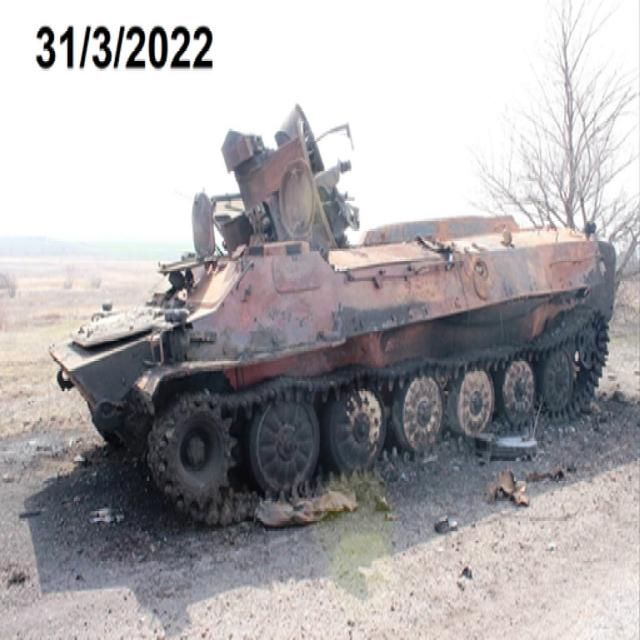APC-IFV: (42, 102, 618, 522)
